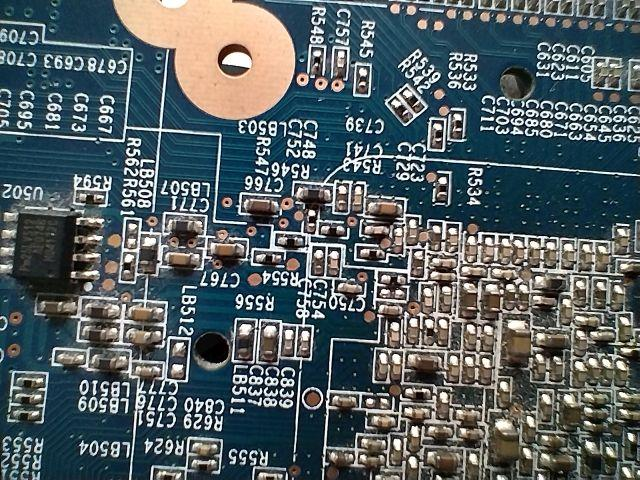capacitor: (42, 335, 92, 375), (124, 296, 172, 329), (230, 315, 257, 370), (282, 320, 302, 364)
resistor: (66, 183, 126, 219), (372, 91, 421, 134), (351, 241, 396, 272), (304, 40, 330, 89), (378, 271, 413, 291)
